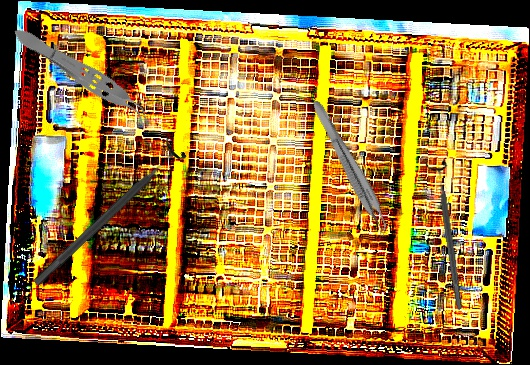Fixation Ring: (24, 134, 189, 295), (424, 159, 472, 312)
Tissue Forceps: (7, 19, 161, 134), (303, 98, 397, 240)
